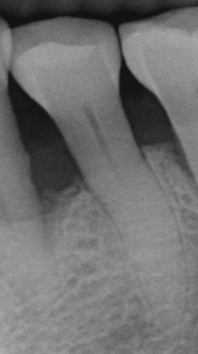tooth: (10, 17, 187, 329)
